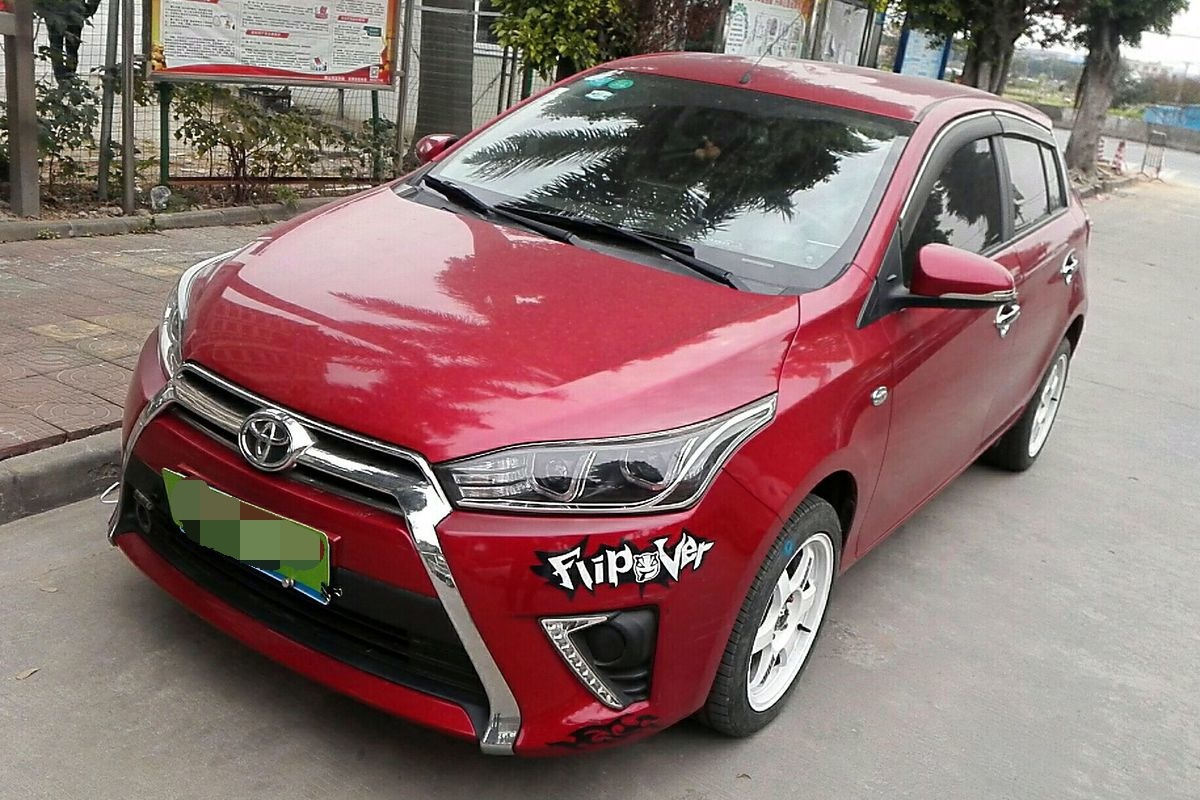family sedan: (108, 28, 1108, 734)
